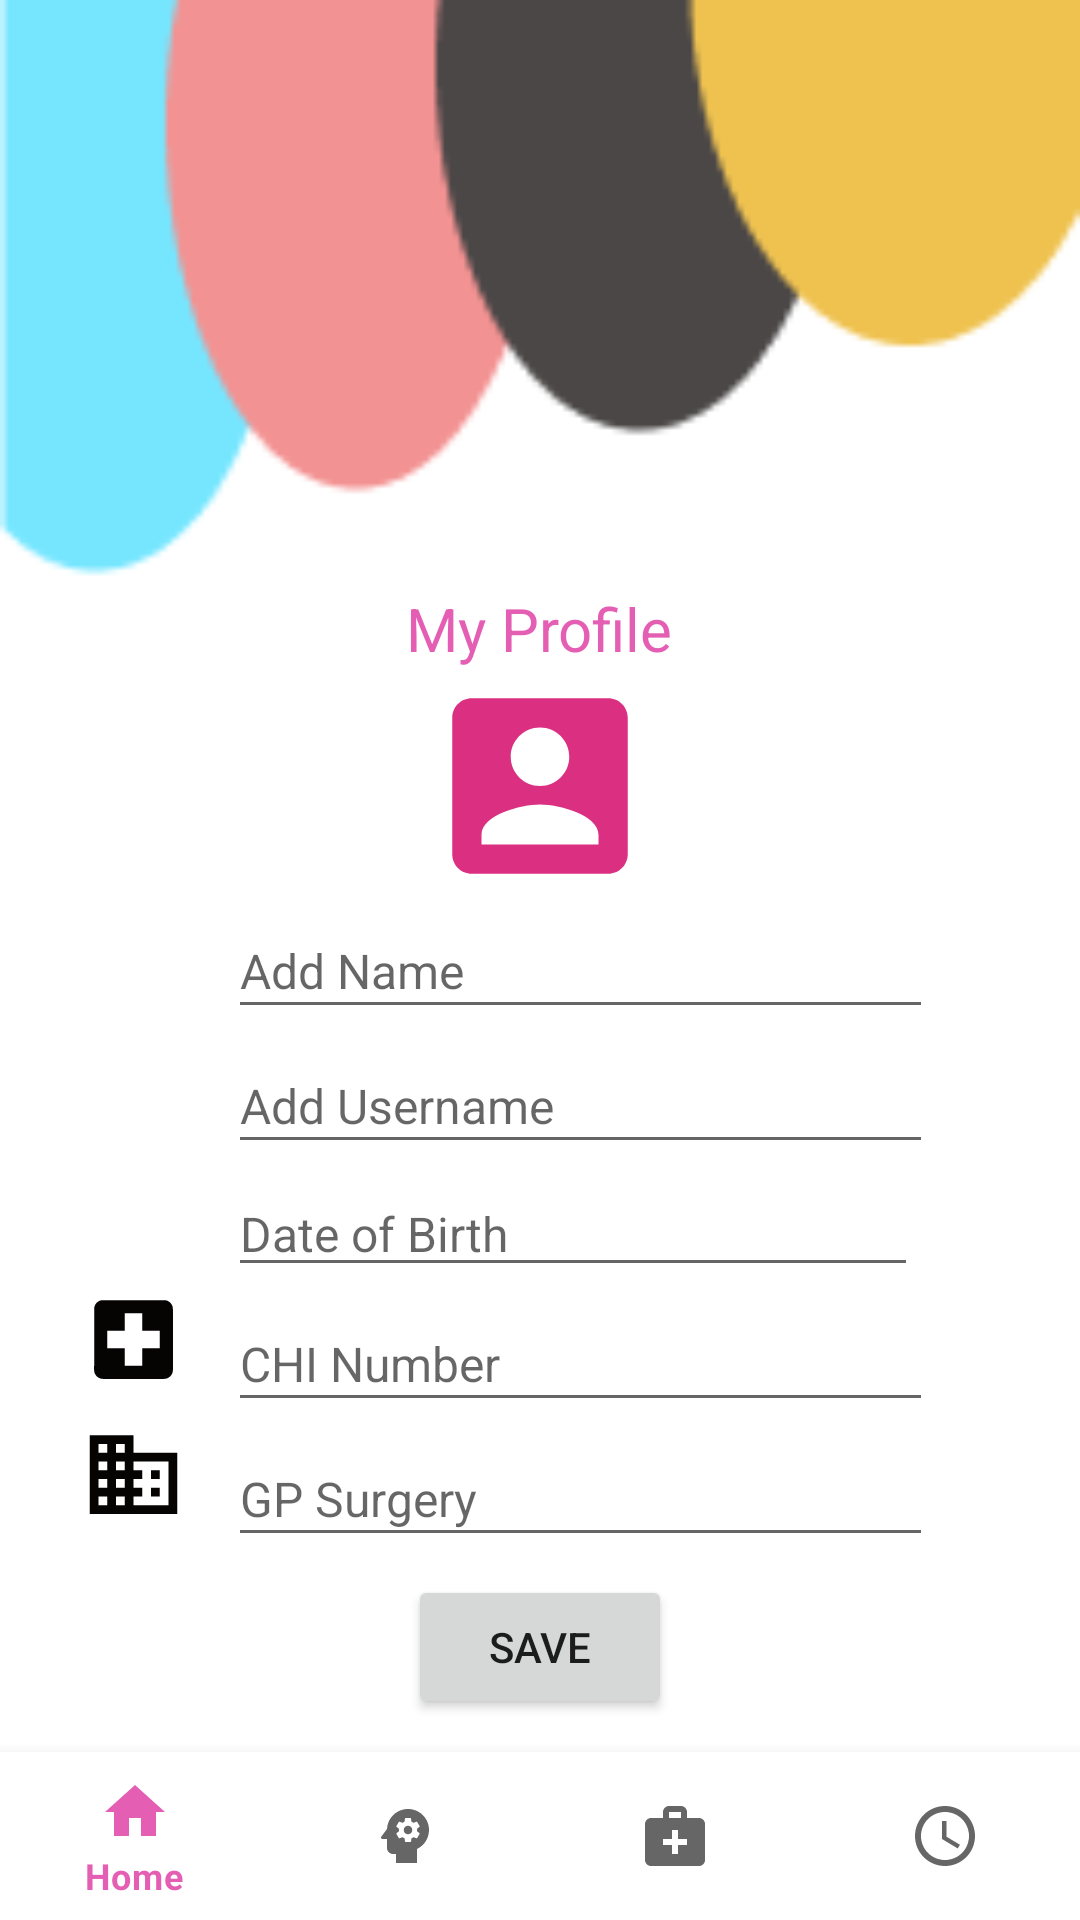

Icons on this 1080px x 1920px Android screen, each with its box as (x1, y1, x2, y2):
account box: (452, 698, 628, 874)
business: (89, 1435, 178, 1514)
local hospital: (94, 1300, 173, 1379)
